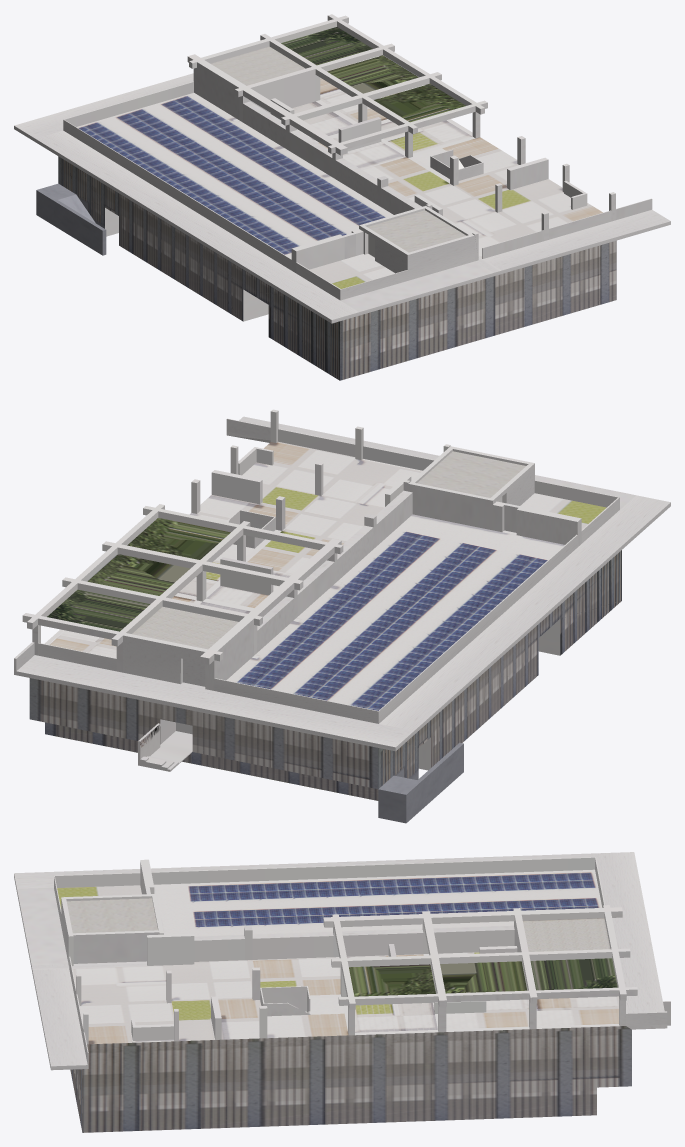
The model's file is ICJ00012.glb.
3 renders of one model, top to bottom at view 1: azimuth 30°, elevation 25°; view 2: azimuth 150°, elevation 25°; view 3: azimuth 270°, elevation 25°, orthographic. The views are drawn at different scales.
Visible parts, largest first — view 1: MainBuilding; view 2: MainBuilding; view 3: MainBuilding.
Boxes of the visible parts, box(x1,y1,x2,y2) form: MainBuilding: box(14, 14, 670, 380); MainBuilding: box(14, 409, 670, 823); MainBuilding: box(14, 852, 670, 1132).
Size of the model in its own units: 654 by 177 by 847.
Materials: 1 (1 with a texture image).
